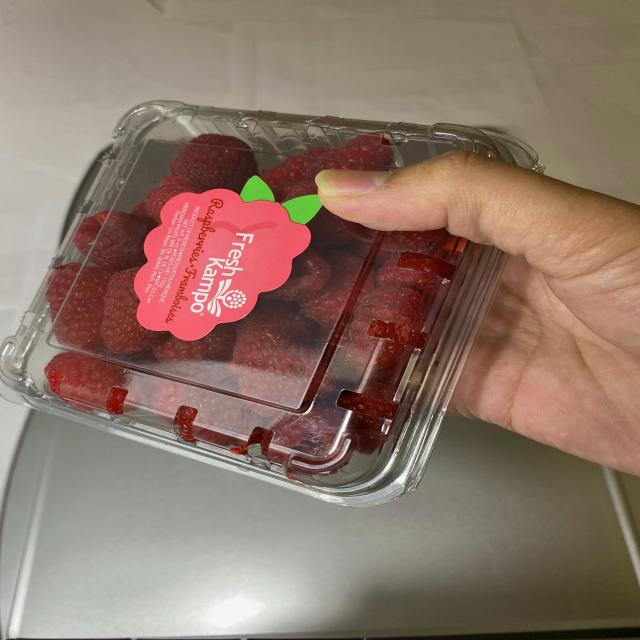raspberries: (14, 122, 407, 454)
